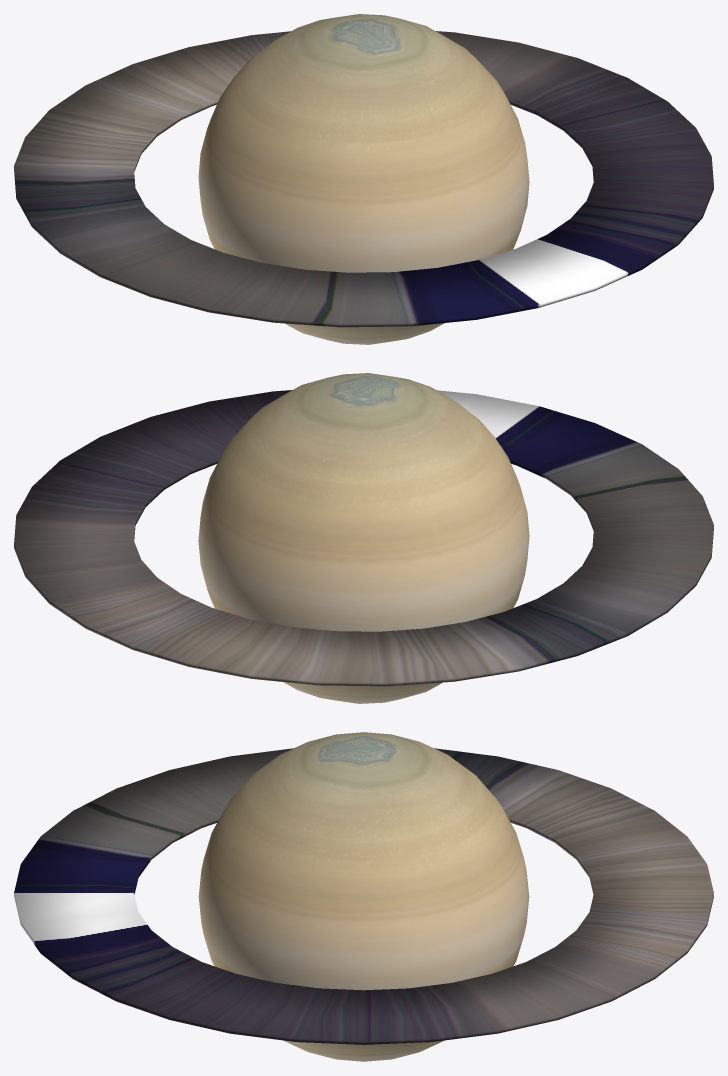
The model's file is saturn.fbx.
3 views of the same model, one above another, from view 1: azimuth 30°, elevation 25°; view 2: azimuth 150°, elevation 25°; view 3: azimuth 270°, elevation 25° (orthographic).
Visible parts, largest first — view 1: saturn (rings), saturn; view 2: saturn (rings), saturn; view 3: saturn (rings), saturn.
Part boxes in pixels (<box>): saturn (rings): <box>14,31,713,327</box>; saturn: <box>198,14,529,344</box>; saturn (rings): <box>14,390,713,686</box>; saturn: <box>198,373,529,703</box>; saturn (rings): <box>14,748,713,1044</box>; saturn: <box>198,732,529,1061</box>.
Bounding box in the file's own units: 4.23 × 2 × 4.23.
Materials: 2 (2 with a texture image).
